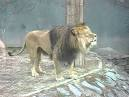lion: (22, 23, 103, 84)
